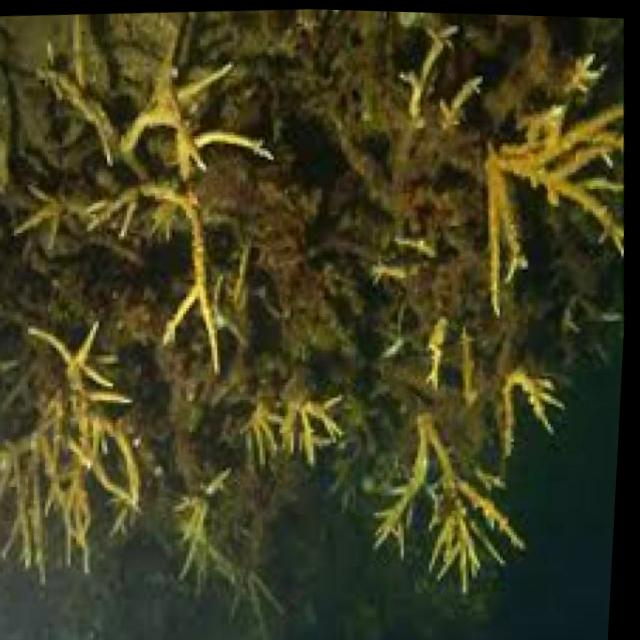Dead Coral: (30, 4, 312, 372), (445, 11, 639, 315), (0, 359, 191, 599), (379, 402, 539, 603), (367, 9, 494, 136), (476, 341, 588, 469), (229, 386, 371, 485), (160, 463, 254, 612)
